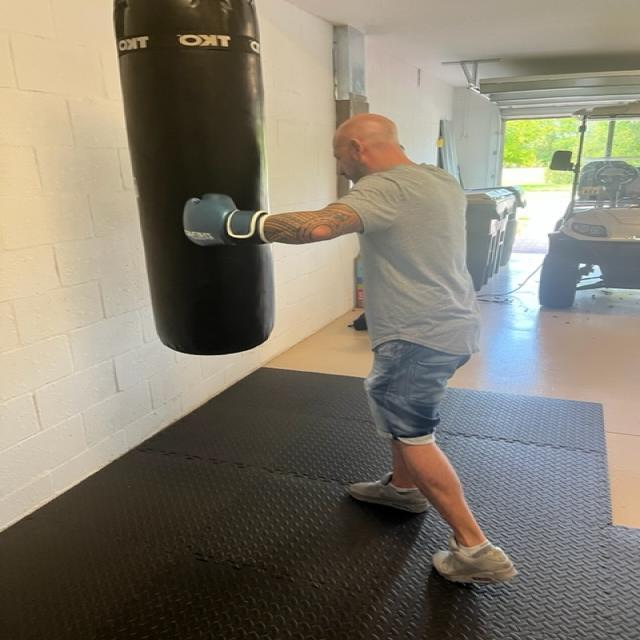hook: (173, 108, 469, 262)
